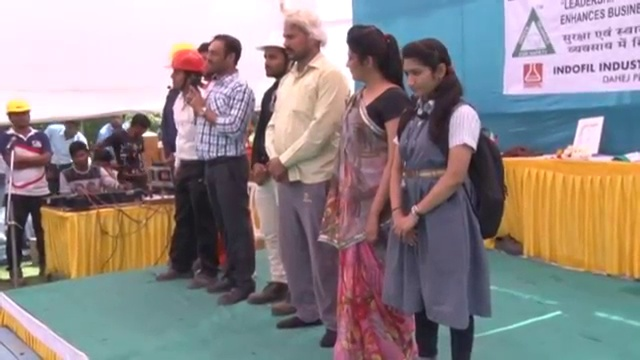helmet: (163, 45, 208, 75), (254, 30, 286, 52), (1, 96, 34, 116)
helmet_off: (397, 33, 457, 112), (338, 24, 398, 89), (276, 7, 324, 64), (199, 32, 242, 83), (127, 113, 151, 142), (69, 143, 88, 170), (63, 122, 81, 139), (108, 115, 124, 132)
helmet_on: (162, 46, 207, 95), (254, 28, 287, 81), (1, 95, 34, 137)
person: (379, 18, 508, 360), (259, 6, 349, 346), (327, 21, 410, 360), (186, 32, 253, 304), (156, 48, 208, 291), (250, 21, 288, 313), (0, 96, 50, 287), (94, 112, 150, 187), (59, 141, 104, 206), (44, 119, 87, 172)
